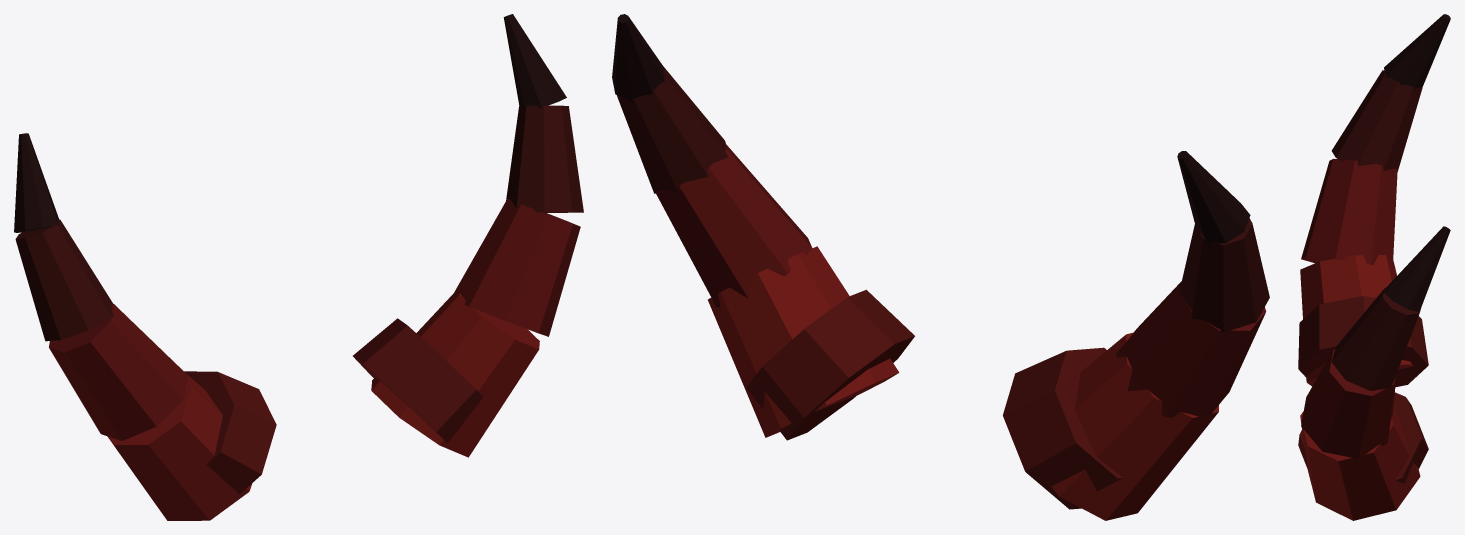
File: sahur__devilhorns.glb
3 views of the same model, side by side, from view 1: azimuth 30°, elevation 25°; view 2: azimuth 150°, elevation 25°; view 3: azimuth 270°, elevation 25° (orthographic). The views are drawn at different scales.
Visible parts, largest first — view 1: Devil Horns; view 2: Devil Horns; view 3: Devil Horns.
Part boxes in pixels (<box>): Devil Horns: <box>14,14,583,520</box>; Devil Horns: <box>612,14,1269,520</box>; Devil Horns: <box>1298,14,1450,520</box>.
Size of the model in its own units: 0.6441 by 0.4193 by 0.1735.
